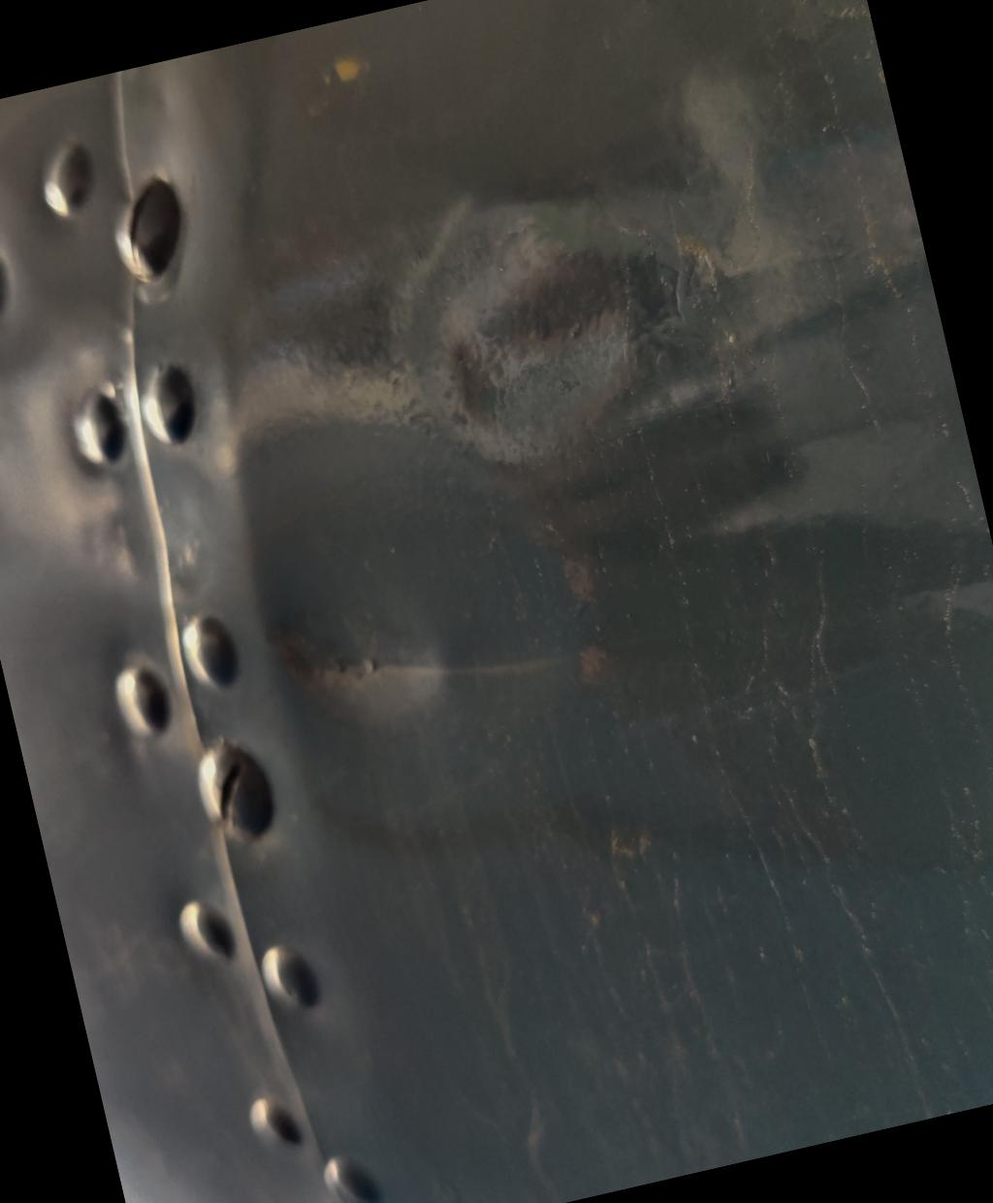dent: (401, 186, 759, 540), (241, 546, 484, 786)
